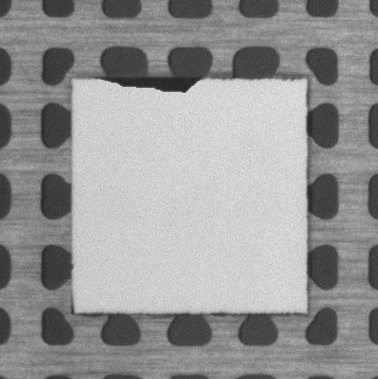DIE_BROKEN: (92, 71, 204, 93)
